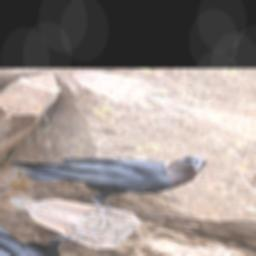Crow: (0, 112, 213, 237)
